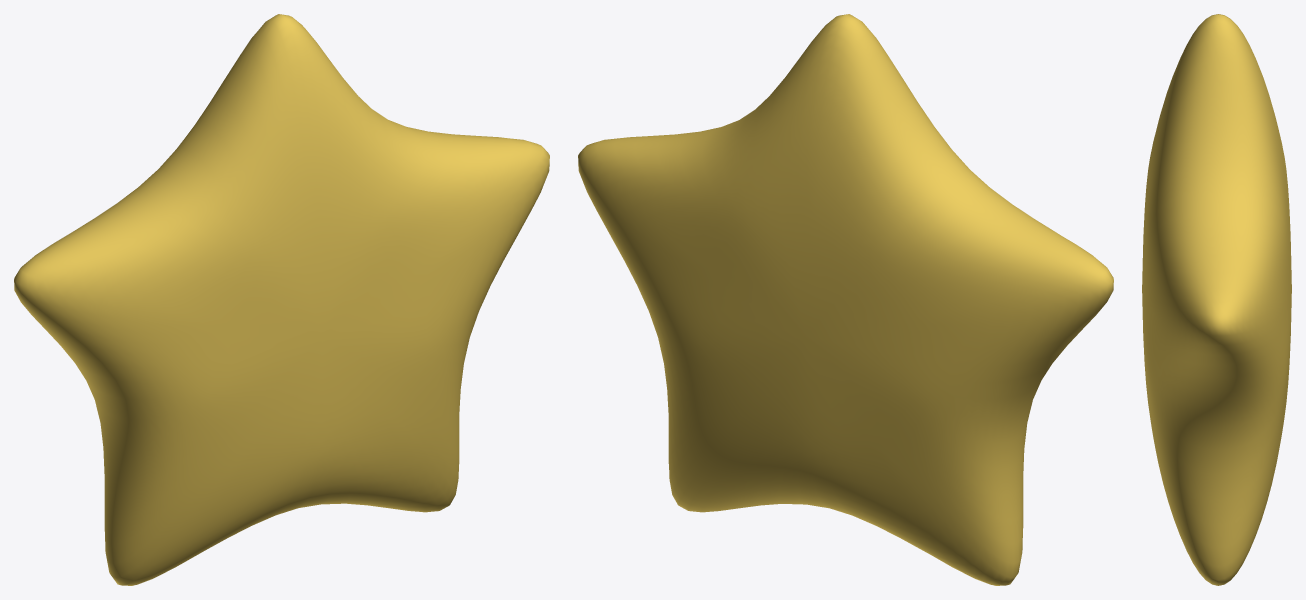
Rendered from star-icon.glb.
The picture shows the model from 3 angles, left to right: view 1: azimuth 30°, elevation 25°; view 2: azimuth 150°, elevation 25°; view 3: azimuth 270°, elevation 25°; orthographic projection. The views are drawn at different scales.
Parts seen in each view (by area): view 1: Star; view 2: Star; view 3: Star.
Boxes of the visible parts, box(x1,y1,x2,y2) form: Star: box(14, 14, 549, 585); Star: box(578, 14, 1113, 585); Star: box(1142, 14, 1291, 585).
Bounding box in the file's own units: 2.62 × 2.51 × 0.6834.
